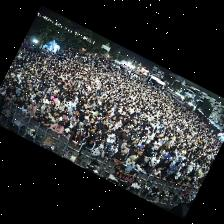person: (76, 137, 96, 158), (146, 155, 160, 172), (111, 150, 125, 165), (144, 146, 157, 162), (69, 129, 81, 146), (128, 130, 141, 145), (50, 122, 64, 134), (175, 166, 187, 180), (126, 147, 139, 159), (40, 113, 51, 127), (135, 158, 146, 172), (72, 122, 84, 134), (92, 145, 104, 157), (65, 117, 76, 129), (168, 163, 179, 175), (118, 143, 128, 156), (13, 96, 23, 109), (28, 100, 36, 116), (82, 126, 91, 140), (67, 97, 75, 111), (164, 173, 175, 183), (126, 156, 136, 167), (151, 168, 161, 179), (121, 129, 130, 141), (92, 129, 101, 141), (104, 145, 111, 160), (111, 142, 118, 157), (41, 101, 49, 114), (50, 111, 58, 124), (96, 138, 106, 148), (106, 134, 115, 145), (96, 119, 105, 129), (50, 105, 59, 115), (100, 129, 108, 139), (37, 99, 43, 112), (22, 102, 28, 115), (117, 138, 126, 146), (8, 96, 16, 105), (62, 128, 70, 137), (58, 101, 64, 112), (114, 121, 121, 130), (59, 114, 67, 121), (44, 108, 51, 116), (63, 118, 68, 129), (188, 179, 194, 188), (0, 86, 5, 96), (194, 182, 198, 189)
